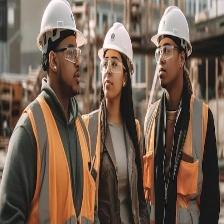Person: (145, 1, 217, 224), (19, 1, 89, 224), (91, 8, 144, 223)
helmet: (148, 1, 196, 64), (34, 1, 88, 54), (96, 20, 139, 73)
vest: (24, 102, 87, 224), (147, 94, 204, 223), (93, 110, 144, 224)
